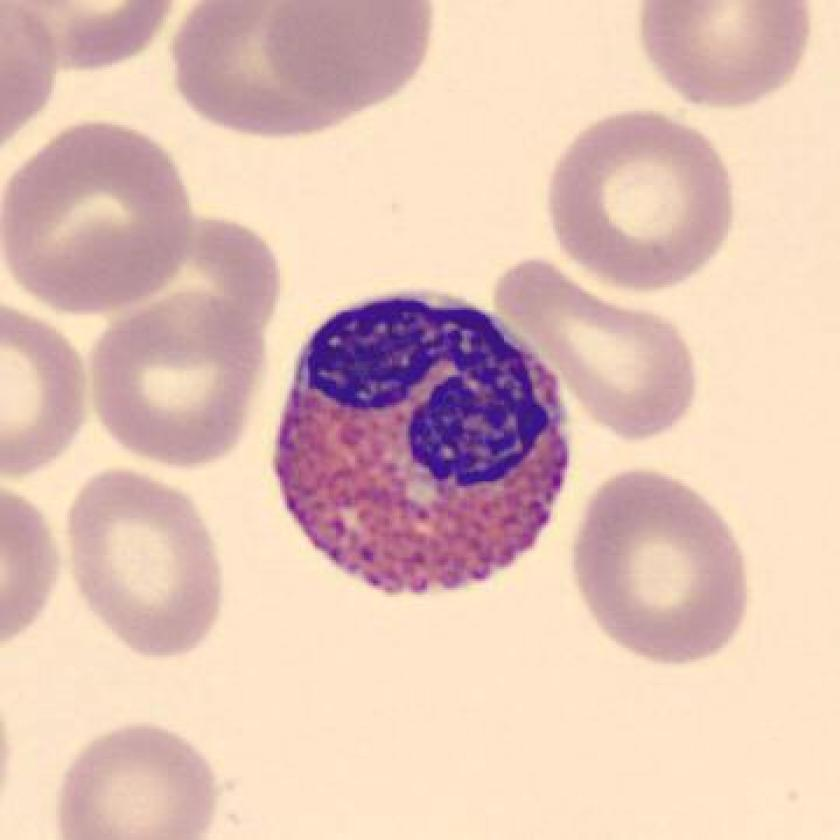eosinophil: (260, 274, 580, 605)
